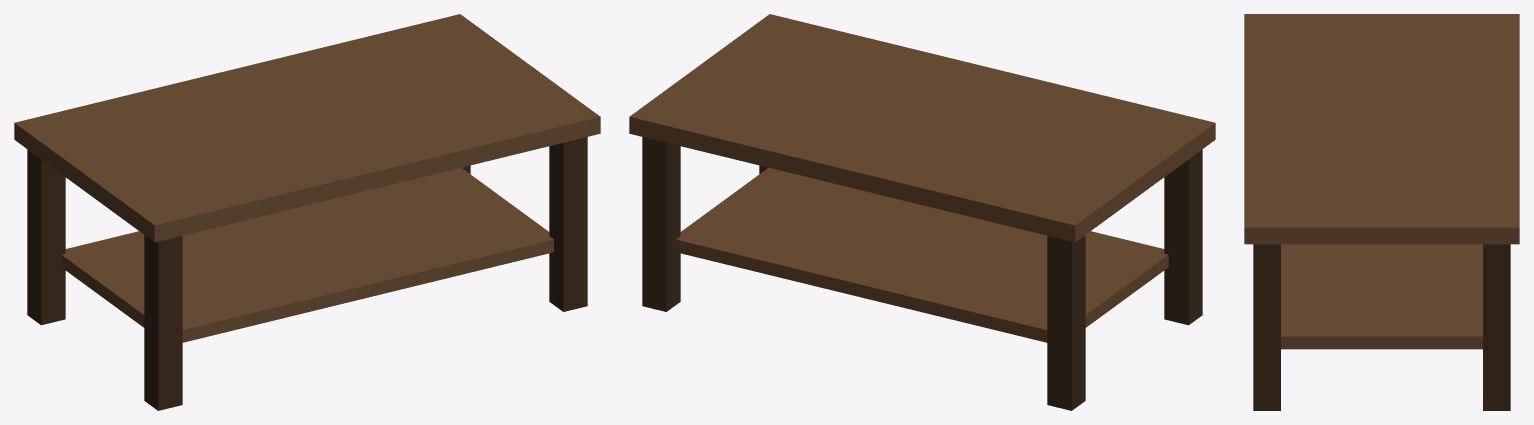
Rendered from coffee_table_walnut.glb.
3 views of the same model, side by side, from view 1: azimuth 30°, elevation 25°; view 2: azimuth 150°, elevation 25°; view 3: azimuth 270°, elevation 25° (orthographic).
Parts seen in each view (by area): view 1: furniture; view 2: furniture; view 3: furniture.
Part boxes in pixels (x1=…): furniture: x1=14, y1=14, x2=600, y2=410; furniture: x1=629, y1=14, x2=1215, y2=410; furniture: x1=1244, y1=14, x2=1519, y2=410.
Bounding box in the file's own units: 1.1 × 0.45 × 0.6.
